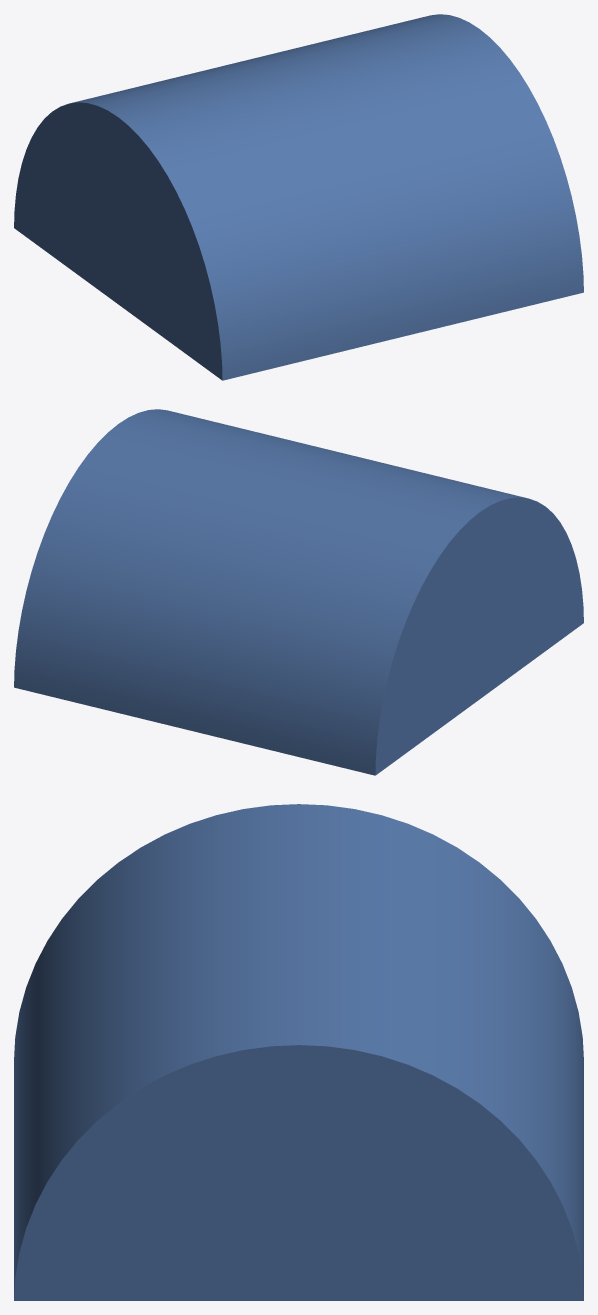
File: round-storage-building.gltf
3 renders of one model, top to bottom at view 1: azimuth 30°, elevation 25°; view 2: azimuth 150°, elevation 25°; view 3: azimuth 270°, elevation 25°, orthographic. The views are drawn at different scales.
Visible parts, largest first — view 1: base; view 2: base; view 3: base.
Part boxes in pixels (x1,y1,x2,y2): base: (14,14,583,380); base: (14,409,583,775); base: (14,804,583,1300).
Size of what is drawn, in the model's own units: 0.1 by 0.0495 by 0.1.
